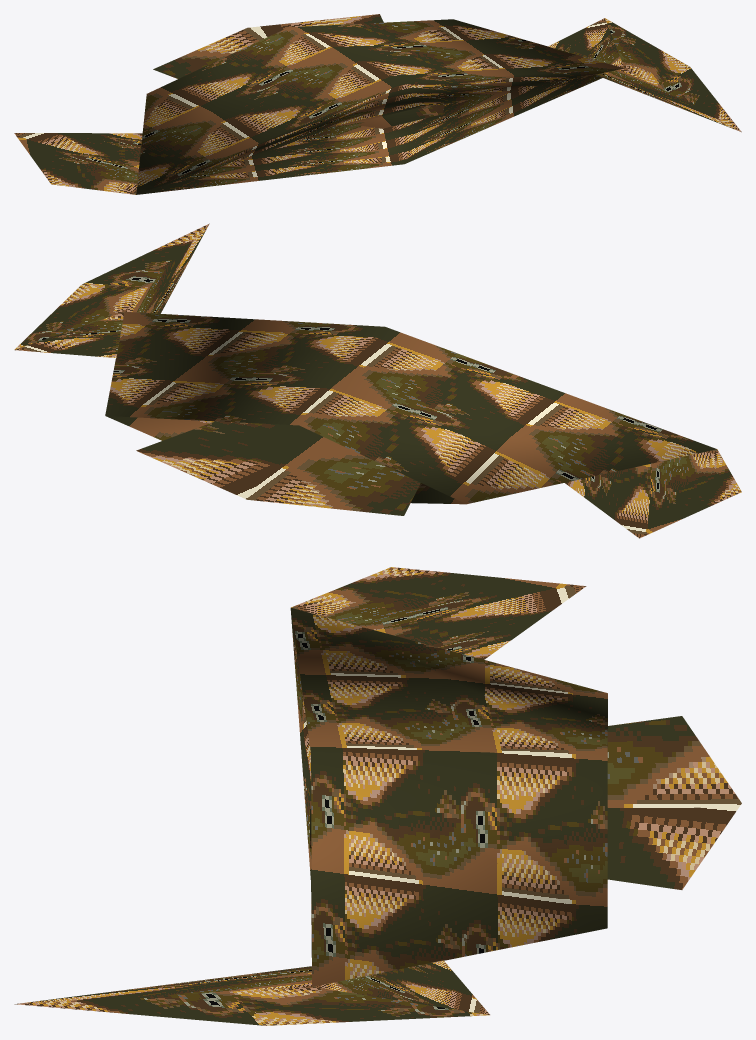
File: 2138_fish68d.gltf
The picture shows the model from 3 angles, top to bottom: view 1: azimuth 30°, elevation 25°; view 2: azimuth 150°, elevation 25°; view 3: azimuth 270°, elevation 25°; orthographic projection. The views are drawn at different scales.
Visible parts, largest first — view 1: 2138_fish68d; view 2: 2138_fish68d; view 3: 2138_fish68d.
Part boxes in pixels (bbox=[...]): 2138_fish68d: bbox=[14, 14, 741, 194]; 2138_fish68d: bbox=[14, 223, 741, 538]; 2138_fish68d: bbox=[14, 567, 741, 1025].
Size of the model in its own units: 0.5061 by 0.0667 by 0.3386.
1 material, 1 textured.
